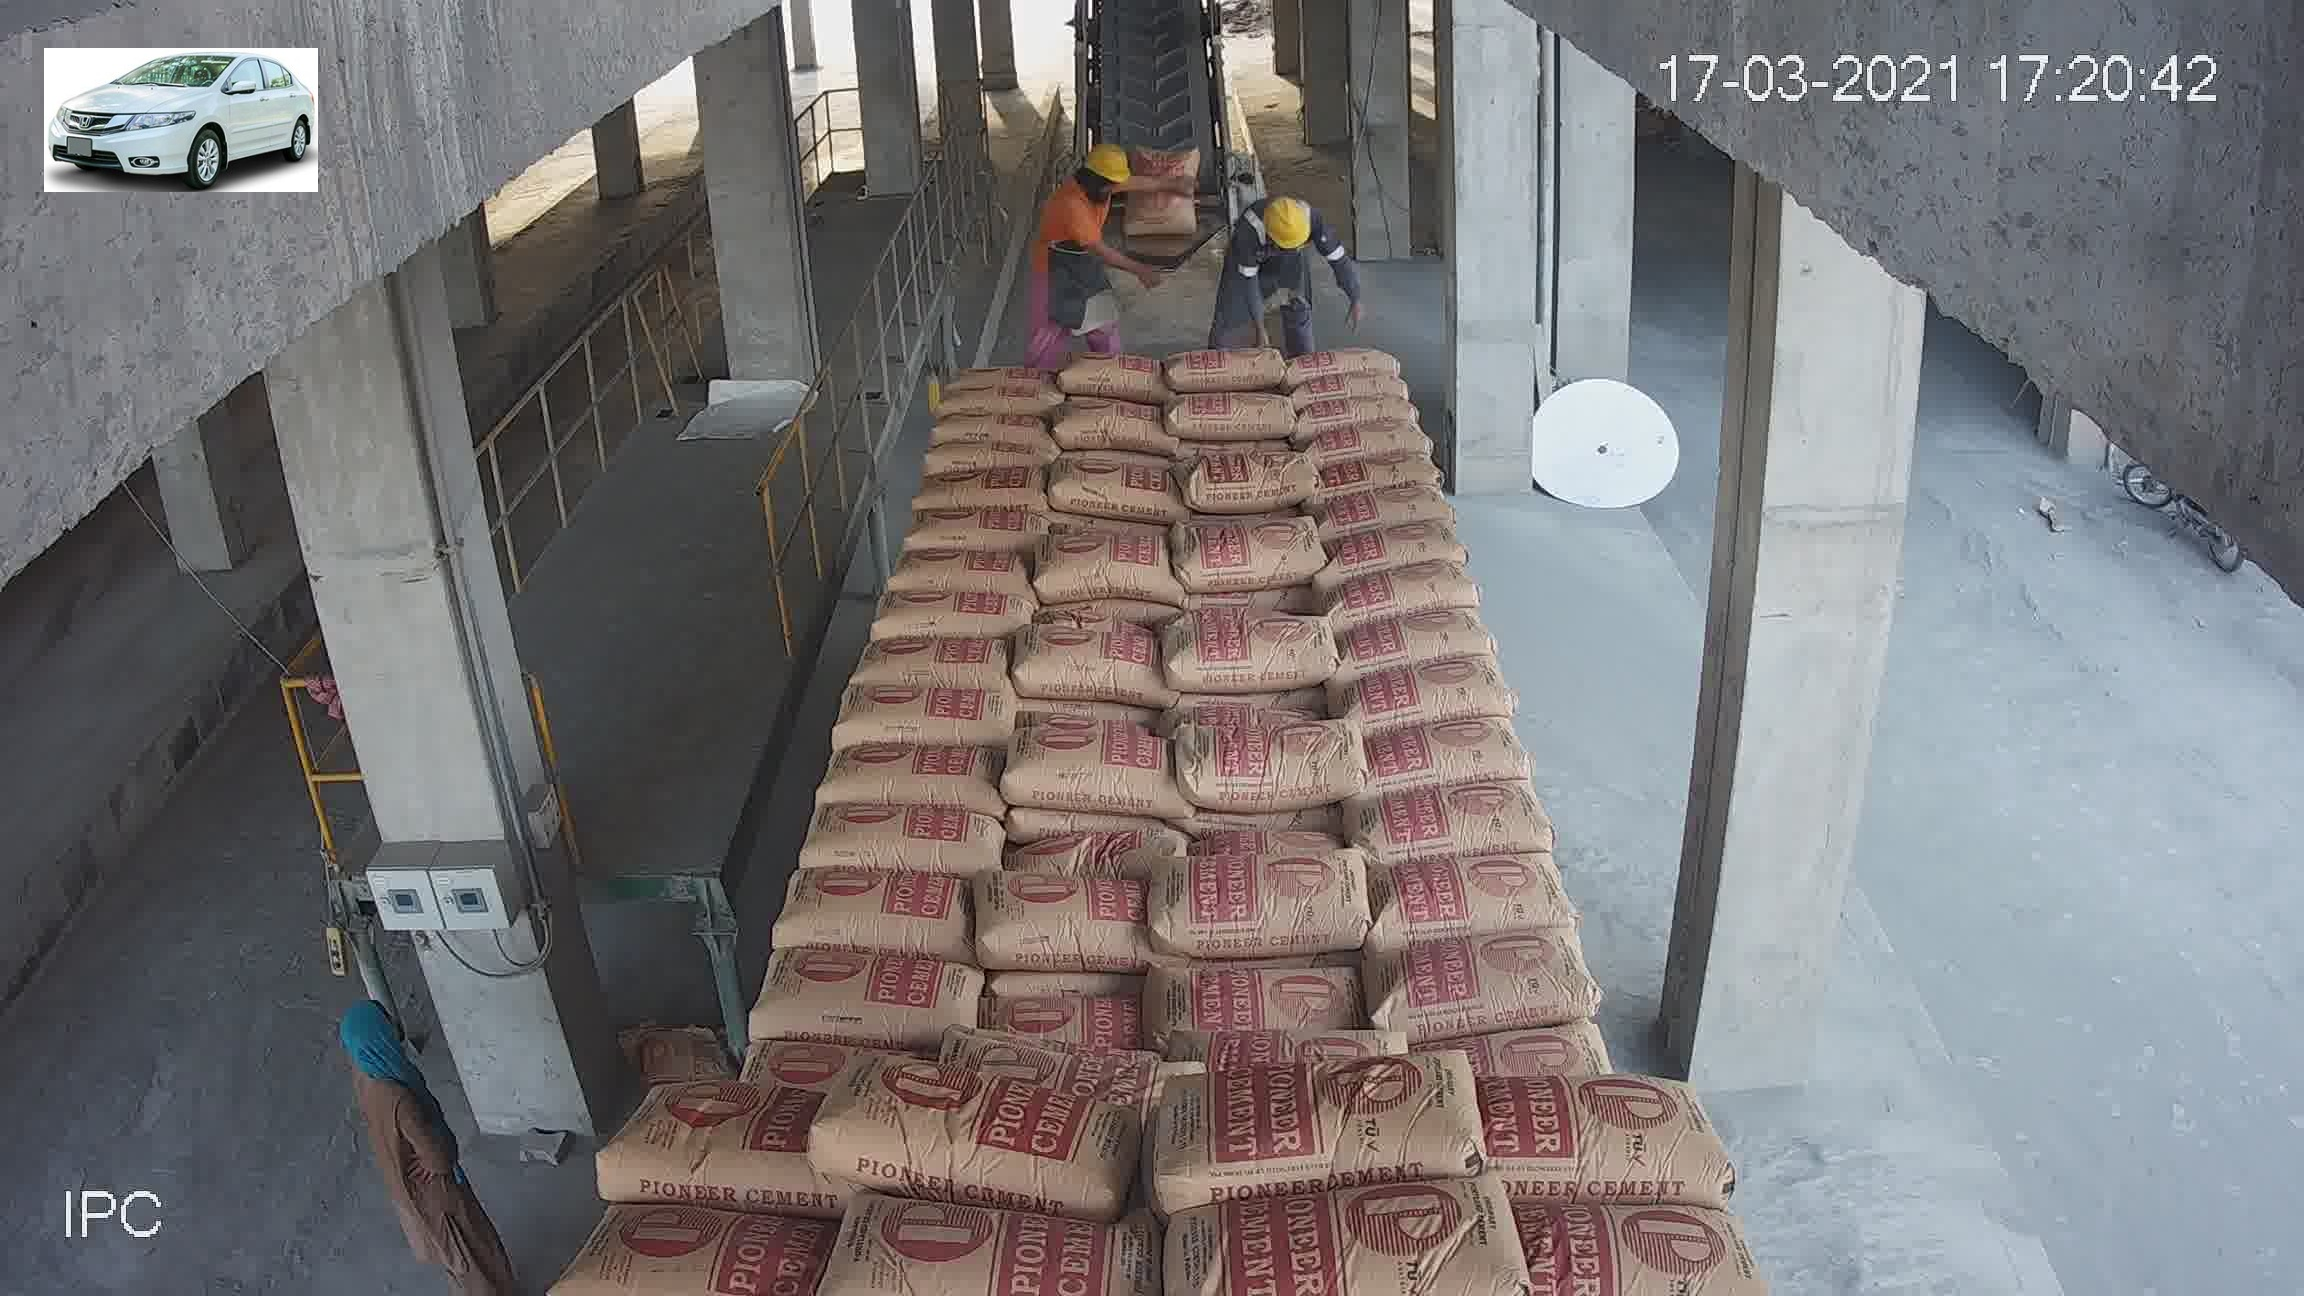bag: (1067, 449, 1233, 600), (1086, 54, 1214, 152)
bag_h: (1165, 1044, 1484, 1217), (777, 1060, 1143, 1211), (1138, 930, 1453, 1082), (1157, 1168, 1525, 1296), (873, 945, 1154, 1078), (574, 1089, 843, 1218), (1449, 951, 1725, 1074), (1152, 824, 1426, 948), (630, 956, 867, 1090), (810, 1195, 1166, 1283), (1400, 843, 1652, 965), (885, 840, 1165, 949), (1487, 1086, 1756, 1180), (554, 1198, 818, 1285), (1535, 1198, 1764, 1296), (696, 869, 880, 959), (1386, 764, 1541, 859), (1374, 641, 1527, 734), (1385, 709, 1552, 788), (791, 790, 956, 856), (821, 668, 934, 758), (807, 733, 964, 794), (1378, 544, 1480, 614), (1378, 604, 1499, 661), (1351, 464, 1454, 524), (1071, 661, 1165, 725), (1366, 514, 1461, 567), (1356, 418, 1438, 472), (1312, 321, 1389, 358), (1317, 353, 1399, 380), (1370, 381, 1416, 413)
belt: (1002, 8, 1309, 546)
